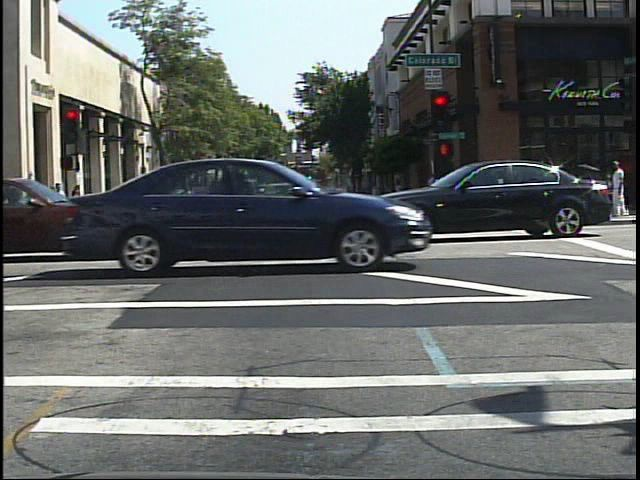person: (607, 156, 633, 221)
